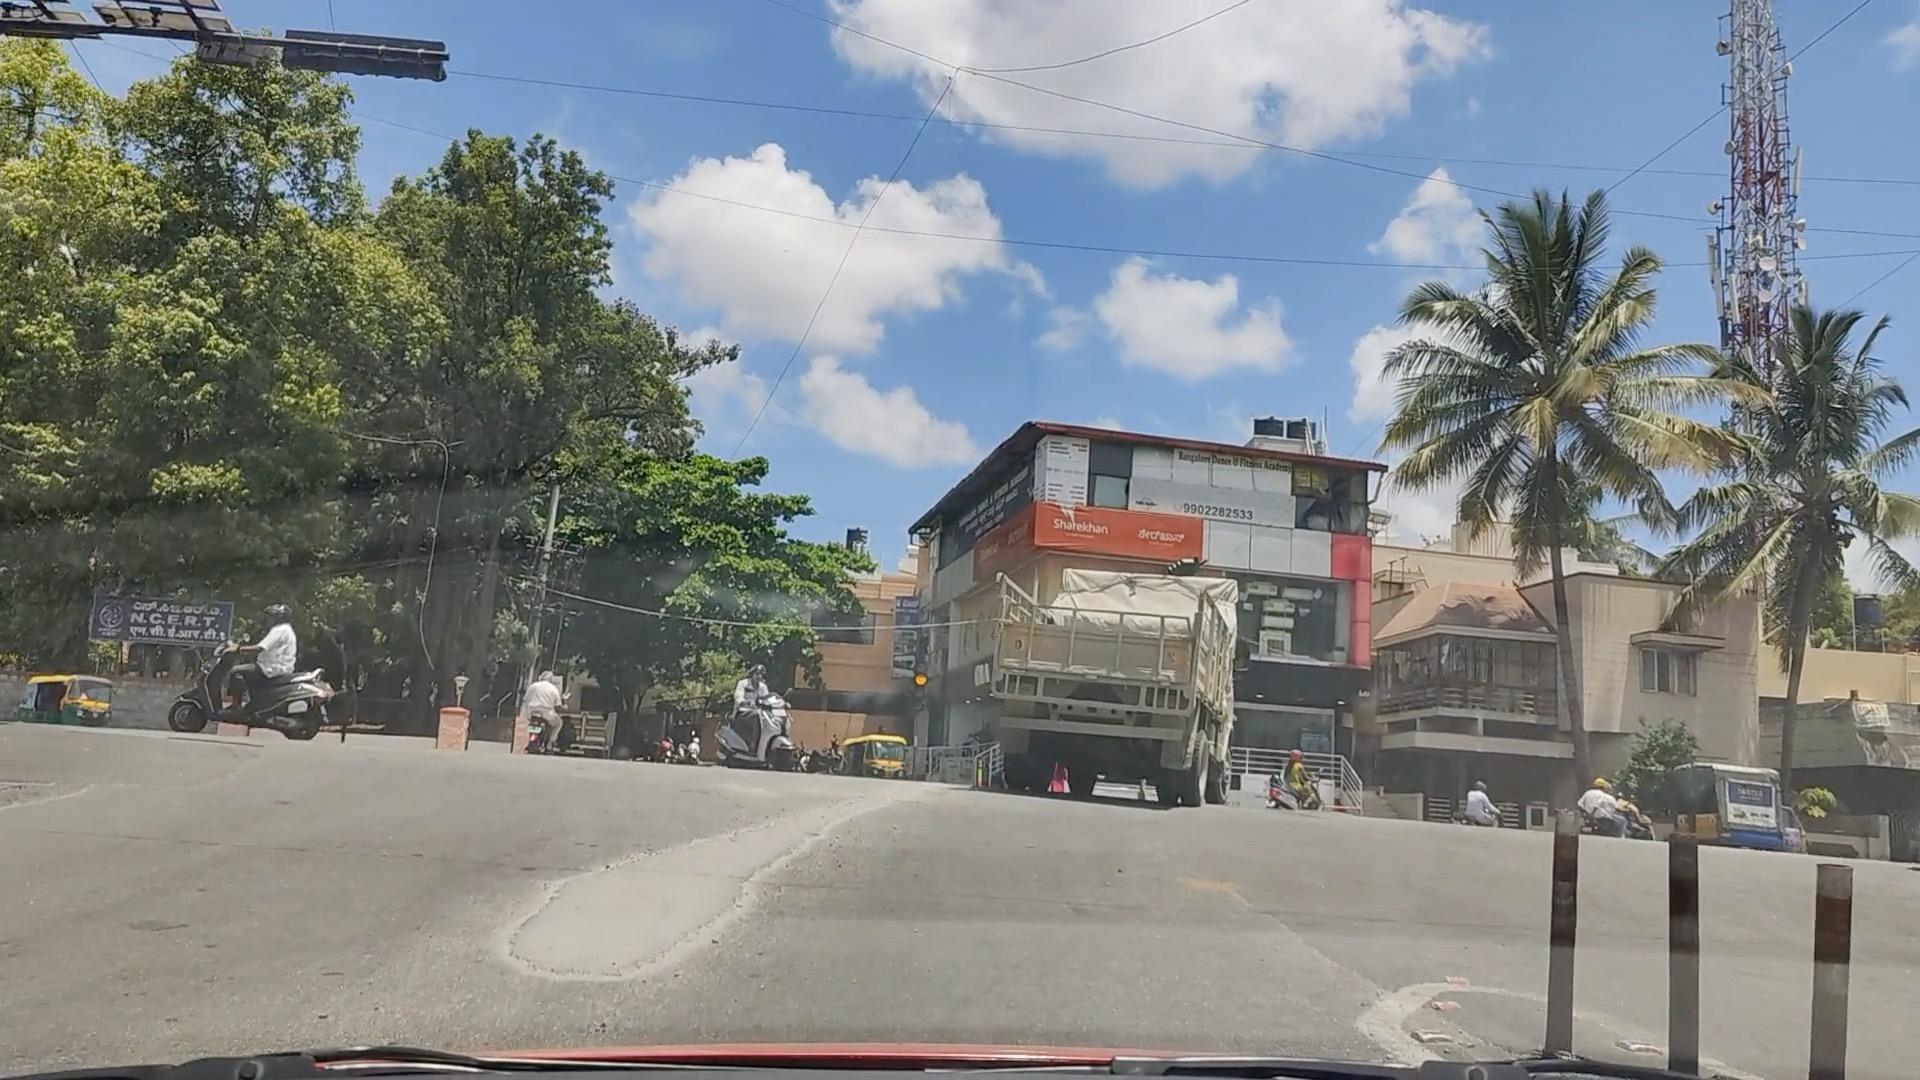HMV: (990, 563, 1234, 779)
LMV: (153, 604, 353, 741)
RoadDamages: (480, 757, 964, 992), (1309, 916, 1545, 1050)
